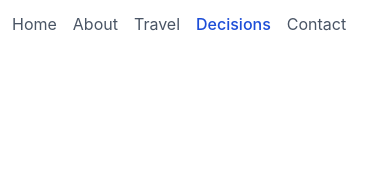
NavLinks › opens and closes the Travel flyout independently of the Decisions flyout
Click the button "Decisions" at (233, 24), box top-left (196, 12), bottom-right (271, 36)
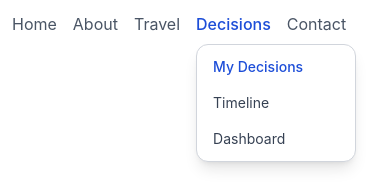
Expected: the menu "Decisions" is shown, top-left (196, 44), bottom-right (356, 162)
Click the button "Travel" at (157, 24), box top-left (134, 12), bottom-right (180, 36)
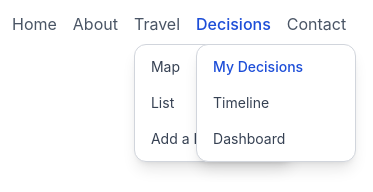
Expected: the menu "Decisions" is shown, top-left (196, 44), bottom-right (356, 162)
Expected: the menu named "Travel" is shown, top-left (134, 44), bottom-right (294, 162)
